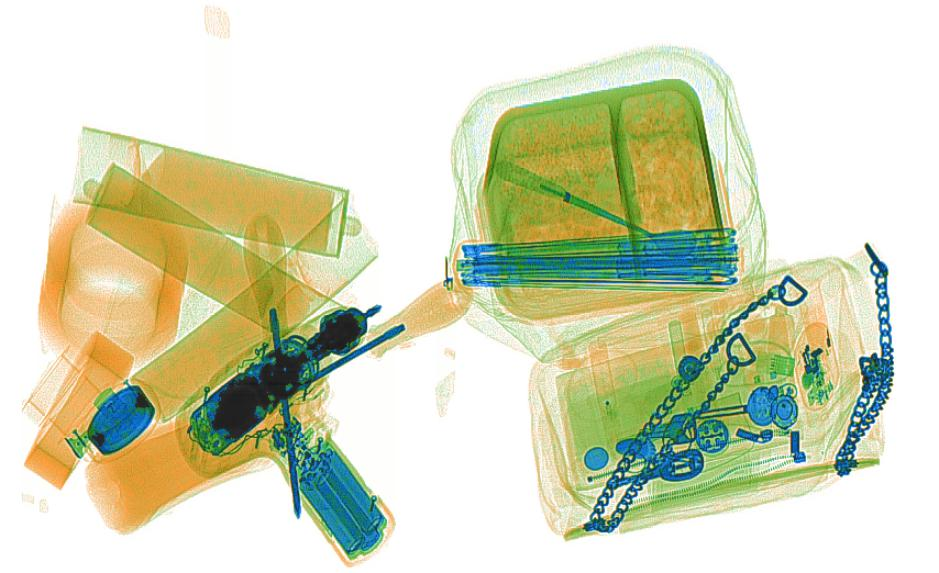battery: (295, 445, 386, 560)
